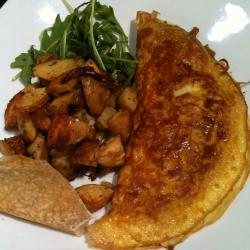omelette: (114, 12, 246, 249)
salad: (30, 10, 132, 82)
